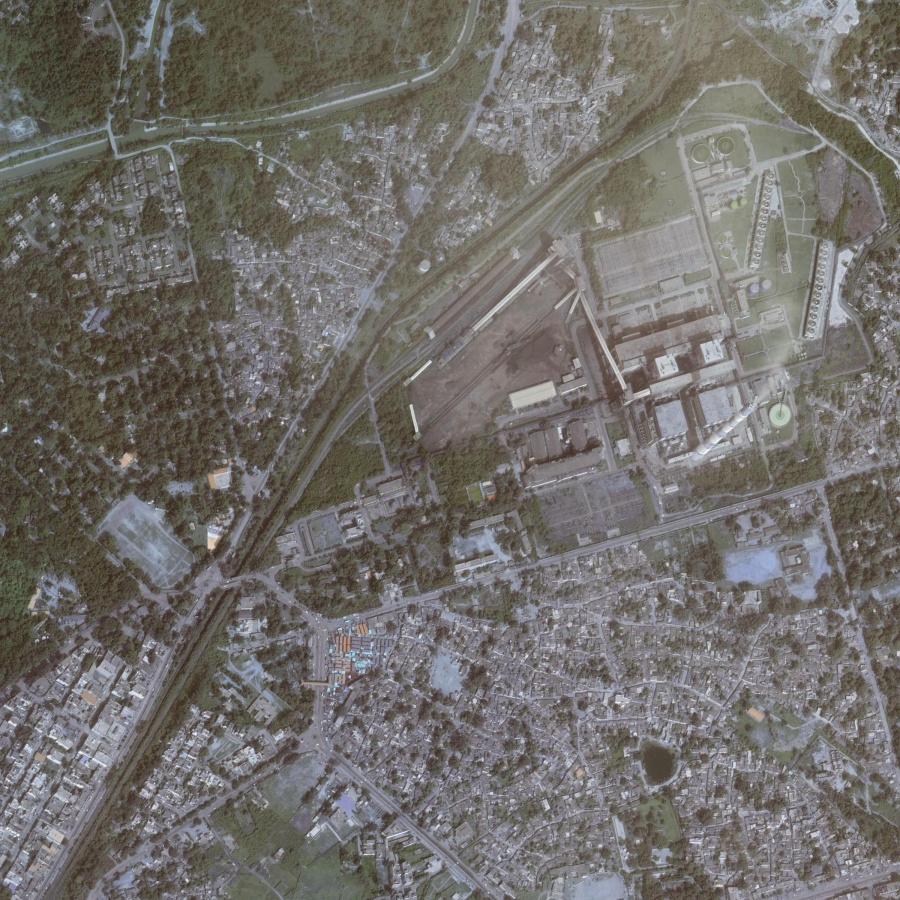PowerPlant: (406, 130, 848, 484)
